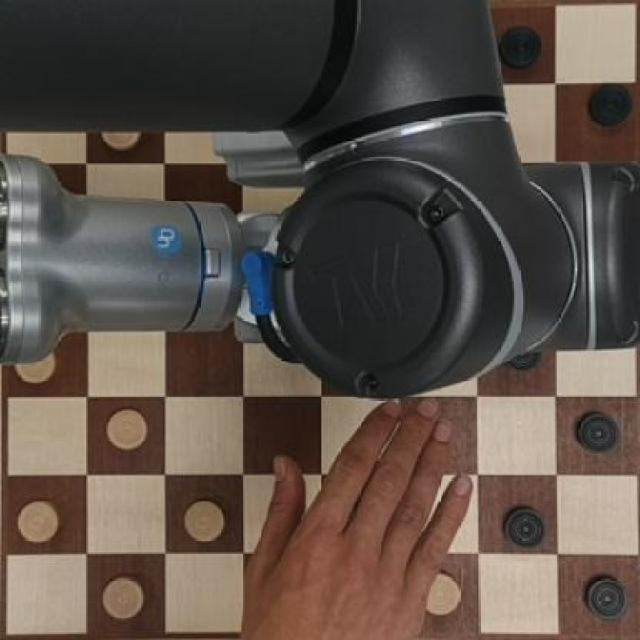black: (494, 493, 550, 556), (566, 403, 621, 462), (584, 73, 634, 133), (579, 570, 628, 624), (497, 24, 544, 70)
white: (171, 492, 229, 551), (98, 403, 154, 455), (94, 570, 145, 623), (15, 495, 64, 549)
